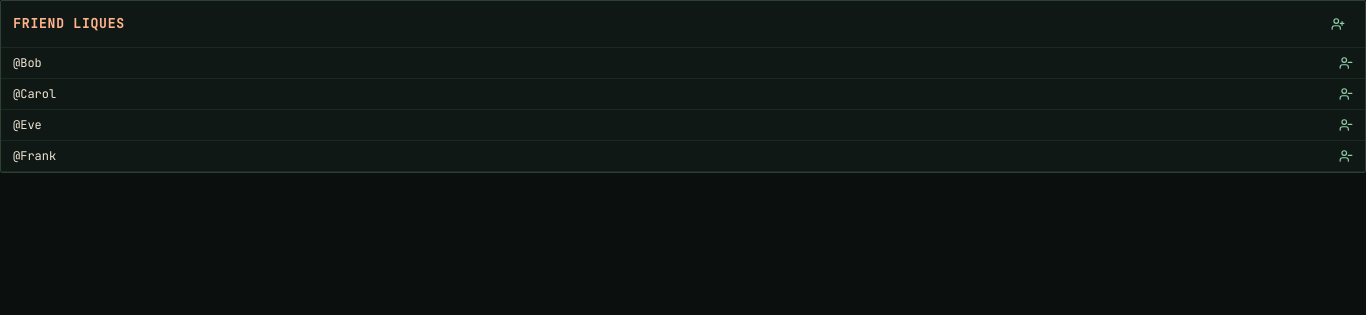
Scenario: the FRIEND LIQUES panel › an activation error is shown in the preview and MY_LIQUE stays
Click the button "@Eve".
click(17, 125)  # box [13,110,1323,140]
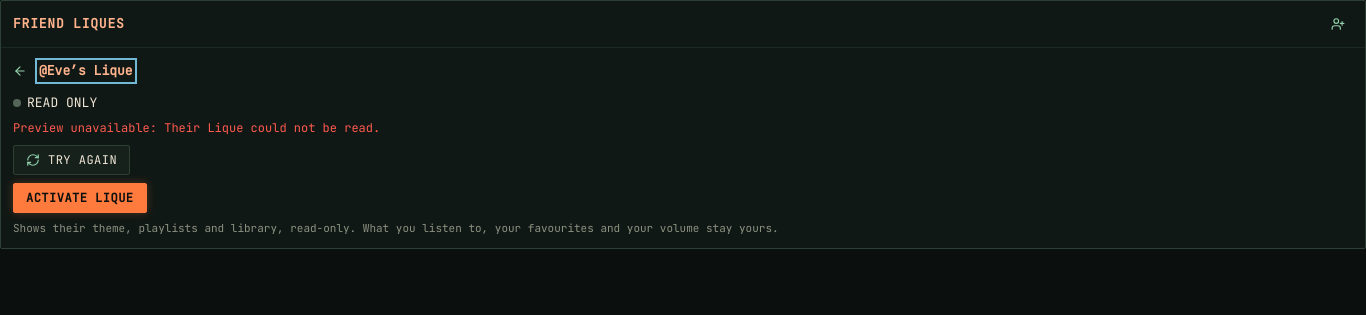
Click the button "Activate Lique".
click(80, 198)  # box [13,183,146,213]
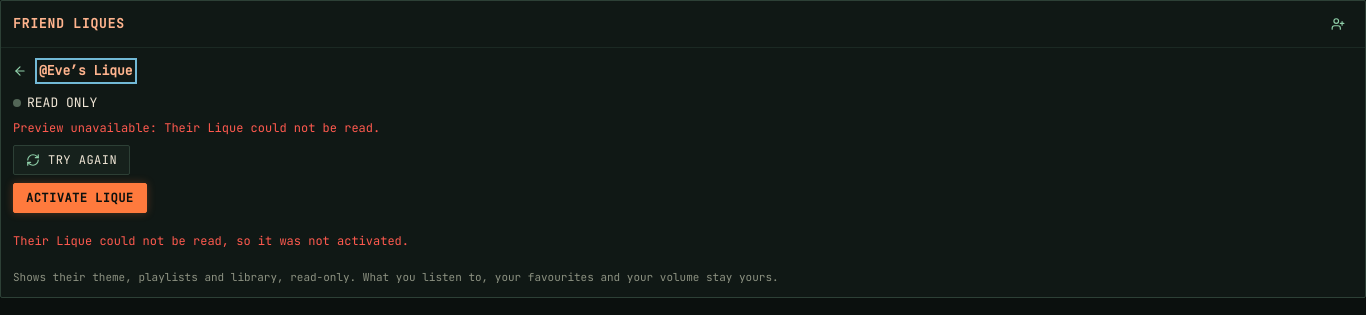
Check: the message "Their Lique could not be read, so it was not activated." is shown, box [13,233,409,249]
